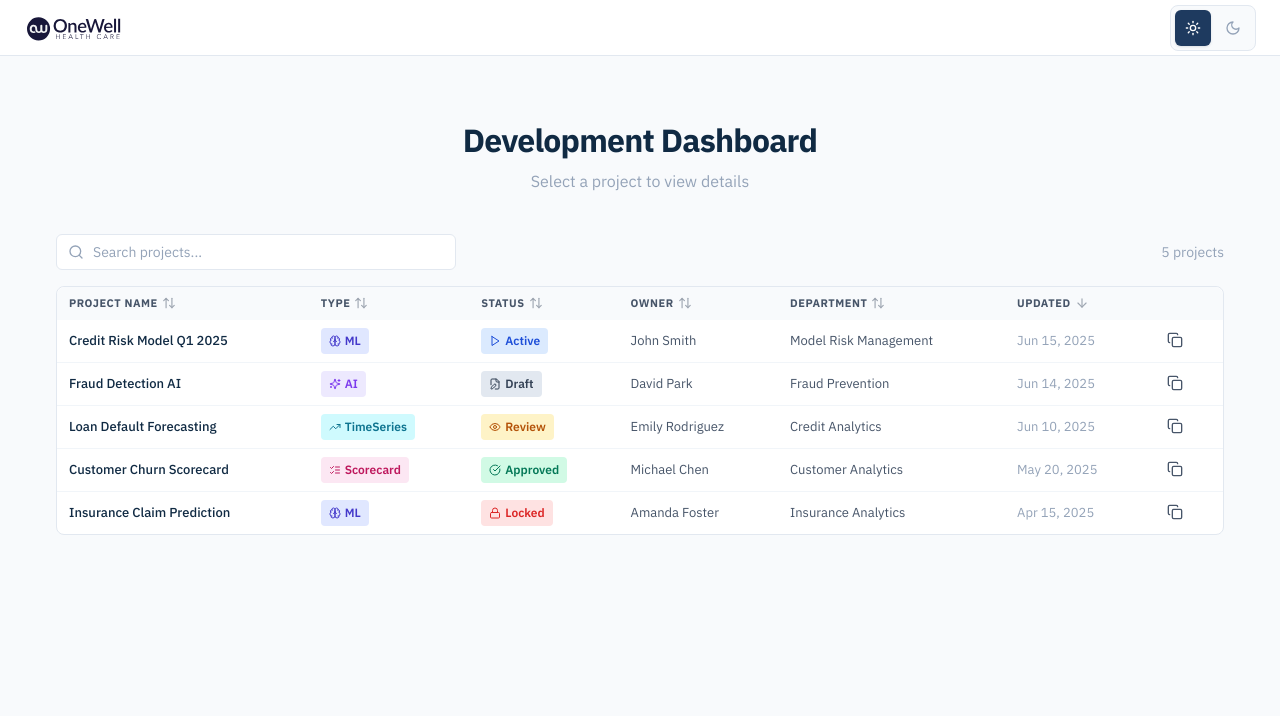
Scenario: Navigation › Project Navigation › should navigate from home to project dashboard
What coordinates should you click on to do the following:
click the row that starts with "Credit Risk Model Q1 2025"
I would click on:
 (640, 342)
Its box is [57, 320, 1223, 363].
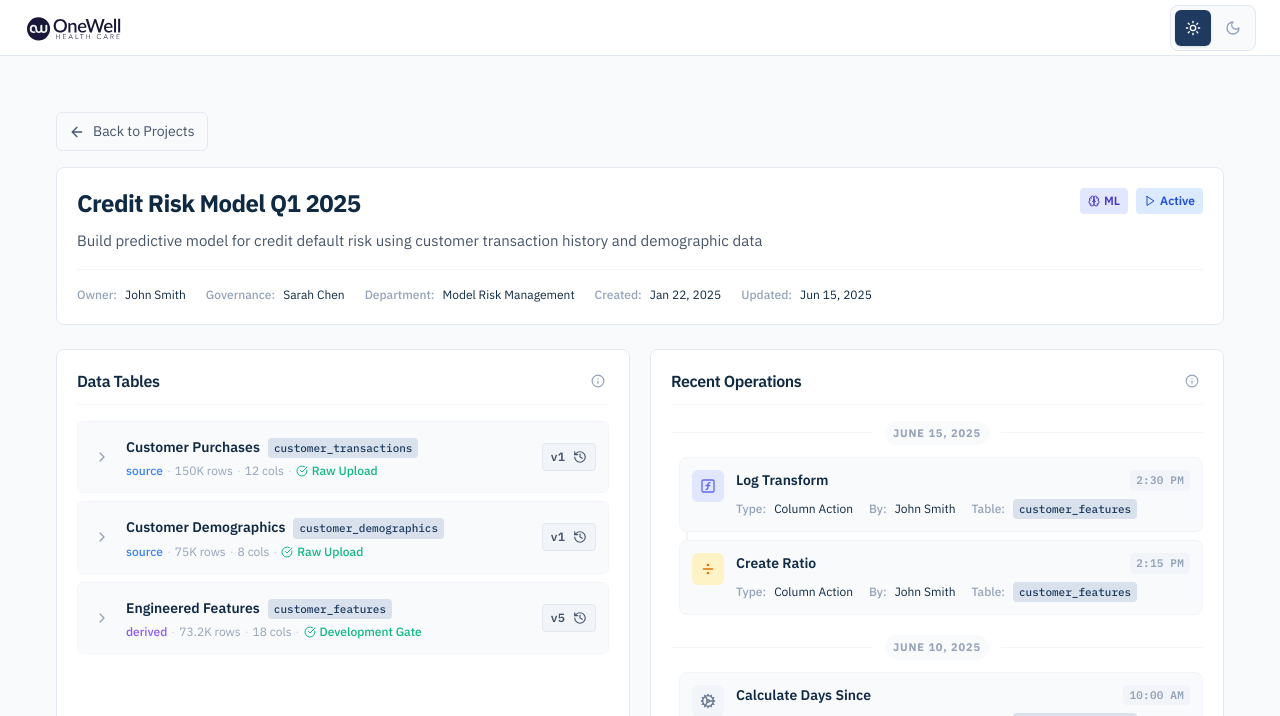
Expected: the header with test id "project-header" is shown, [56, 167, 1224, 325]
